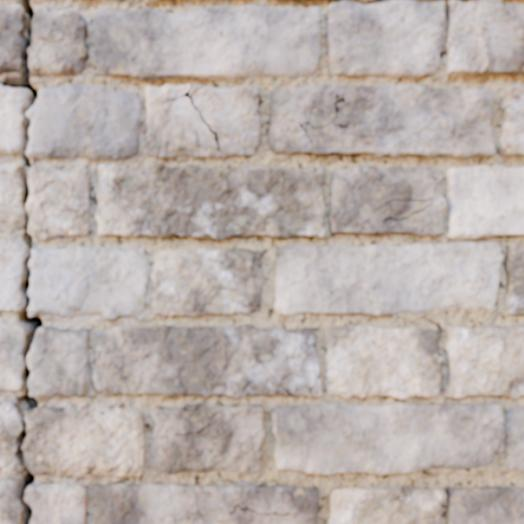brick: (96, 164, 325, 240), (94, 6, 320, 81), (269, 84, 495, 158), (272, 403, 502, 475), (276, 243, 502, 315), (94, 326, 319, 397), (327, 0, 523, 78), (330, 166, 523, 238), (96, 482, 319, 523), (324, 325, 443, 398), (147, 86, 260, 158), (152, 404, 264, 474), (152, 249, 263, 315), (329, 487, 523, 523), (446, 326, 523, 397), (500, 84, 523, 156), (505, 246, 523, 314), (505, 410, 523, 471), (314, 382, 320, 397)
broken_brick: (29, 83, 142, 161), (30, 247, 148, 320), (24, 406, 145, 477), (29, 167, 93, 239), (29, 326, 90, 398), (30, 8, 90, 76), (26, 483, 87, 523), (0, 322, 27, 392), (0, 83, 26, 155), (0, 241, 26, 312), (0, 400, 23, 474), (0, 3, 22, 75), (0, 163, 22, 235), (0, 477, 21, 523)
crack: (2, 0, 44, 523), (163, 85, 220, 155), (264, 366, 291, 397), (308, 374, 320, 397)
